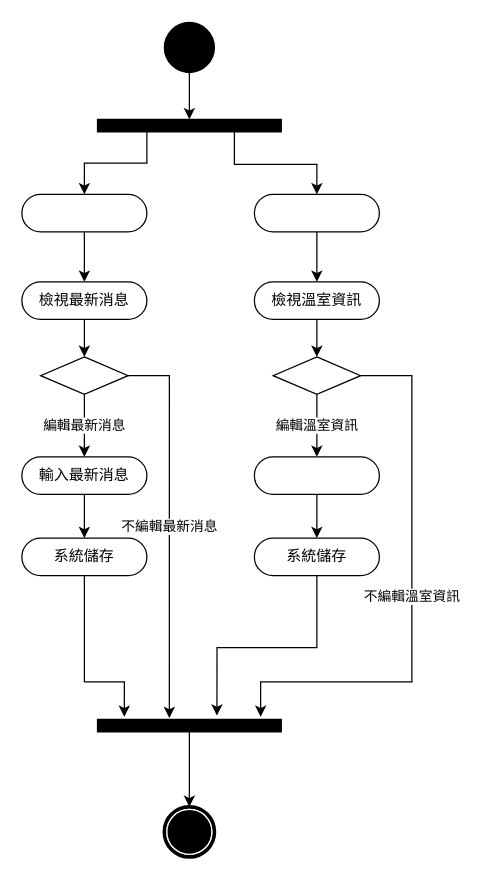
Image size: 481x879. Some labels were removed from this diagram. The shapes that lost their labels are listed below. From the top down, each one's centre as x and y in pixels, then its label:
the point at 84,212: 點選最新消息管理
the point at 316,212: 點選溫室資訊管理
the point at 316,475: 輸入溫室資訊
